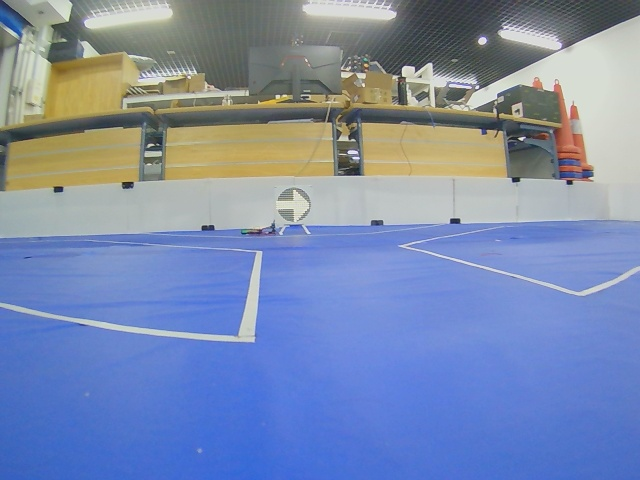right_yellow: (276, 187, 311, 223)
